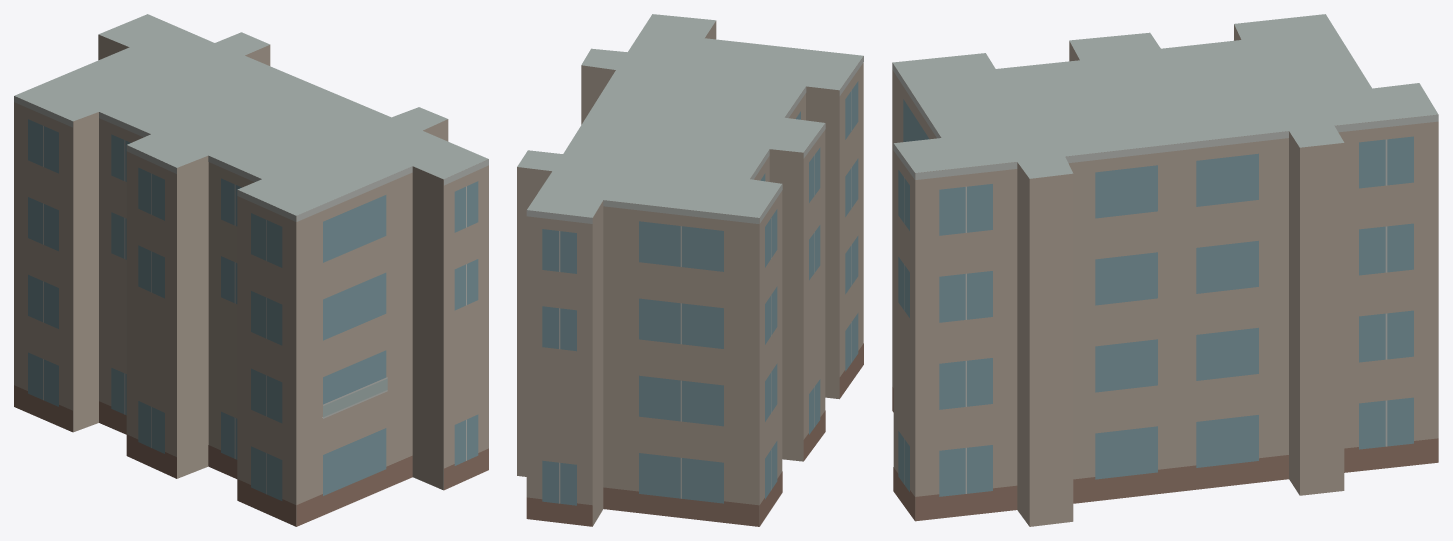
File: survey-upis-32758119.glb
The picture shows the model from 3 angles, left to right: view 1: azimuth 30°, elevation 25°; view 2: azimuth 150°, elevation 25°; view 3: azimuth 270°, elevation 25°; orthographic projection. The views are drawn at different scales.
Visible parts, largest first — view 1: survey-upis-32758119.tmp; view 2: survey-upis-32758119.tmp; view 3: survey-upis-32758119.tmp.
Part boxes in pixels (bbox=[...]): survey-upis-32758119.tmp: bbox=[14, 14, 488, 526]; survey-upis-32758119.tmp: bbox=[517, 14, 863, 526]; survey-upis-32758119.tmp: bbox=[892, 14, 1438, 526].
Bounding box in the file's own units: 12.24 × 12.05 × 17.15.
